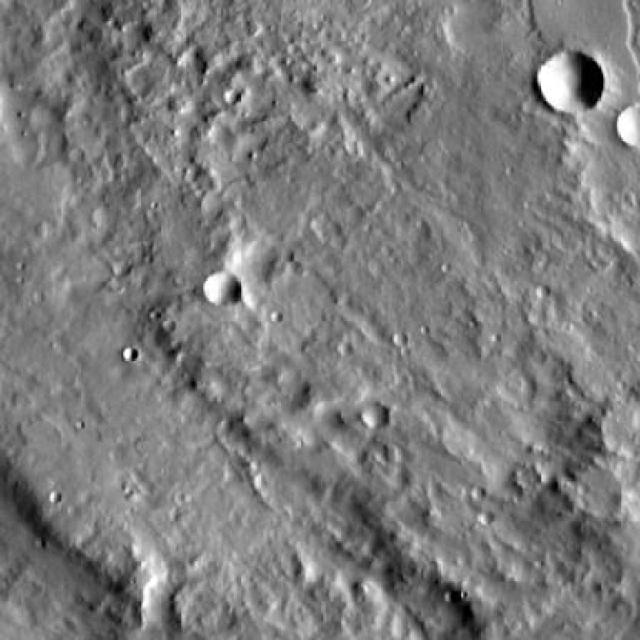crater: (538, 52, 604, 115), (606, 105, 640, 148), (204, 272, 242, 308), (362, 406, 382, 426)
